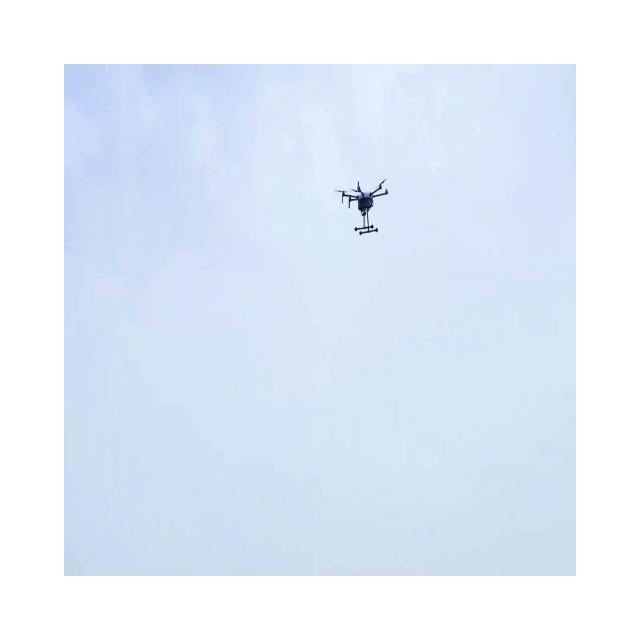drone: (334, 178, 388, 236)
